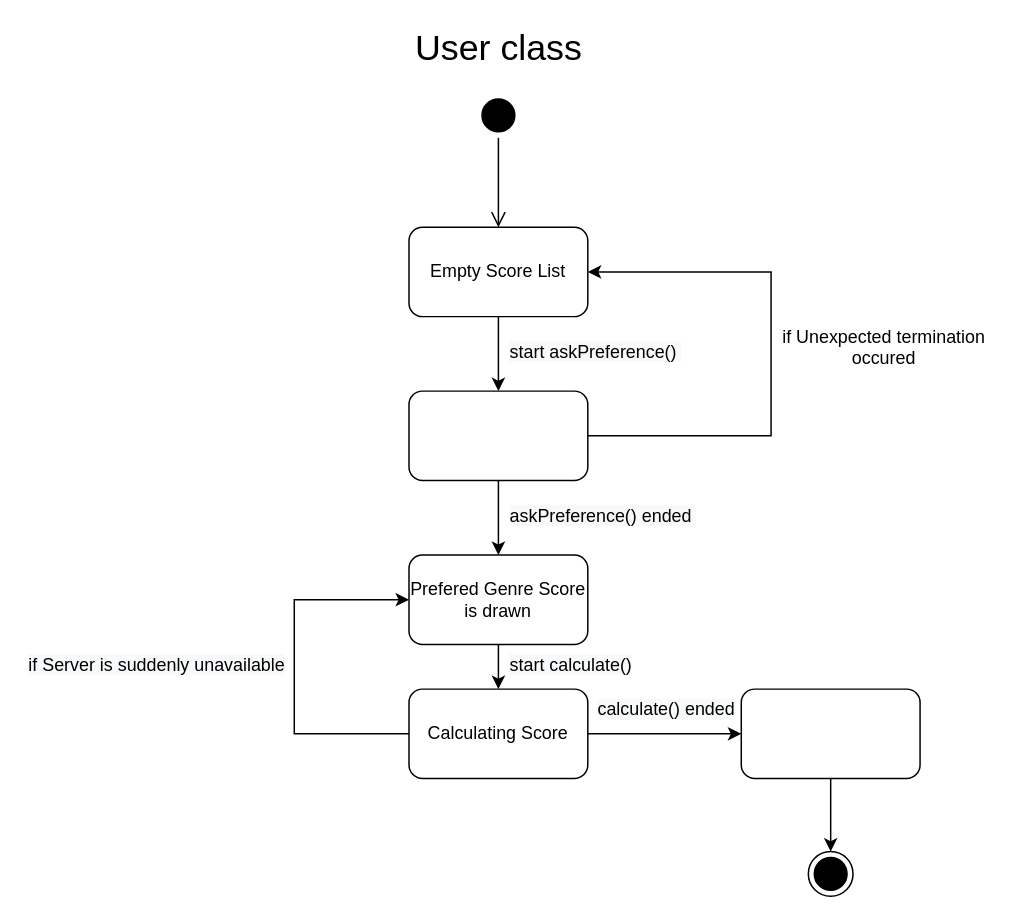
Some shapes in this 1019 by 922 pixel diagram are drawn without their labels. Each missing label, with the centre of its shape:
Invesgating Personal Movie Preference: (x=498, y=435)
MovieList: (x=830, y=733)
